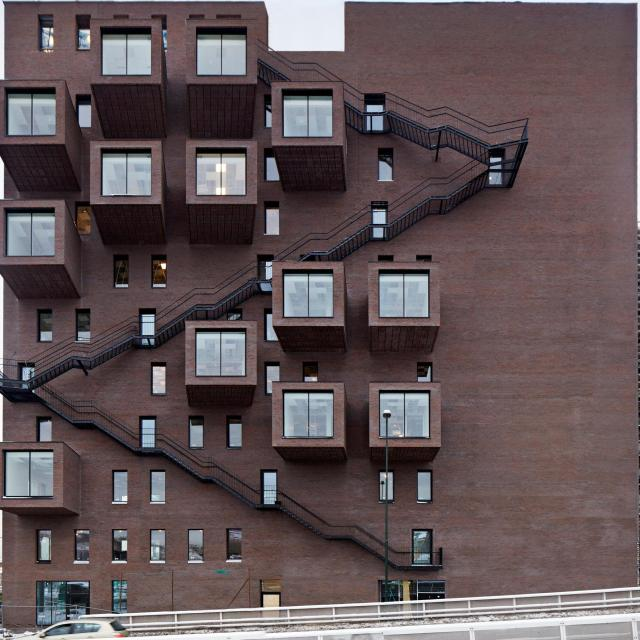door: (38, 580, 90, 628), (412, 531, 432, 564)
window: (284, 93, 334, 138), (197, 32, 246, 77), (6, 90, 56, 134), (102, 151, 151, 195), (382, 392, 430, 436), (4, 452, 52, 496), (286, 274, 333, 318), (197, 151, 244, 195), (104, 32, 151, 76), (9, 212, 54, 257), (381, 273, 428, 316), (284, 394, 331, 437), (198, 330, 245, 373), (411, 580, 447, 614), (380, 579, 404, 611), (75, 530, 92, 560), (114, 530, 131, 560), (151, 530, 168, 560), (140, 417, 157, 447), (113, 581, 128, 614), (35, 531, 52, 560), (186, 530, 203, 559), (228, 530, 245, 559), (151, 470, 168, 499), (111, 471, 128, 500), (372, 206, 388, 236), (263, 593, 280, 621), (264, 362, 279, 393), (143, 312, 157, 345), (189, 419, 204, 449), (226, 417, 241, 447), (152, 365, 167, 395), (76, 310, 91, 340), (39, 312, 54, 342), (378, 152, 393, 182), (368, 101, 383, 131), (266, 153, 282, 181), (262, 472, 276, 504), (75, 202, 89, 234), (419, 469, 432, 503), (266, 204, 281, 233), (489, 155, 504, 184), (153, 257, 167, 287), (116, 258, 129, 289), (36, 418, 52, 442), (77, 103, 91, 129), (21, 366, 35, 389), (43, 26, 55, 51), (381, 474, 393, 498), (418, 363, 433, 382), (305, 363, 319, 383), (78, 25, 89, 50), (267, 311, 276, 340), (266, 259, 273, 281)
